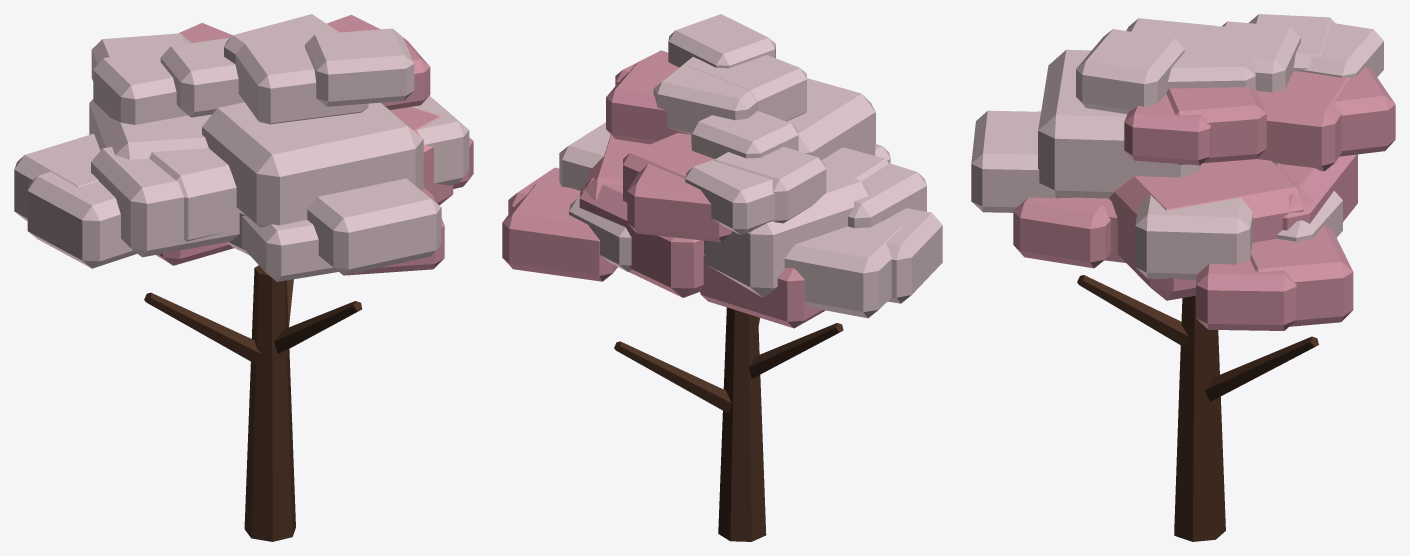
The model's file is tree_blossom.glb.
3 renders of one model, left to right at view 1: azimuth 30°, elevation 25°; view 2: azimuth 150°, elevation 25°; view 3: azimuth 270°, elevation 25°, orthographic. The views are drawn at different scales.
Parts seen in each view (by area): view 1: TreeBlossom; view 2: TreeBlossom; view 3: TreeBlossom.
Boxes of the visible parts, x1,y1,x2,y2 form: TreeBlossom: (14, 14, 473, 541); TreeBlossom: (502, 14, 942, 541); TreeBlossom: (971, 14, 1395, 541).
Size of the model in its own units: 4.05 by 4.55 by 3.44.
